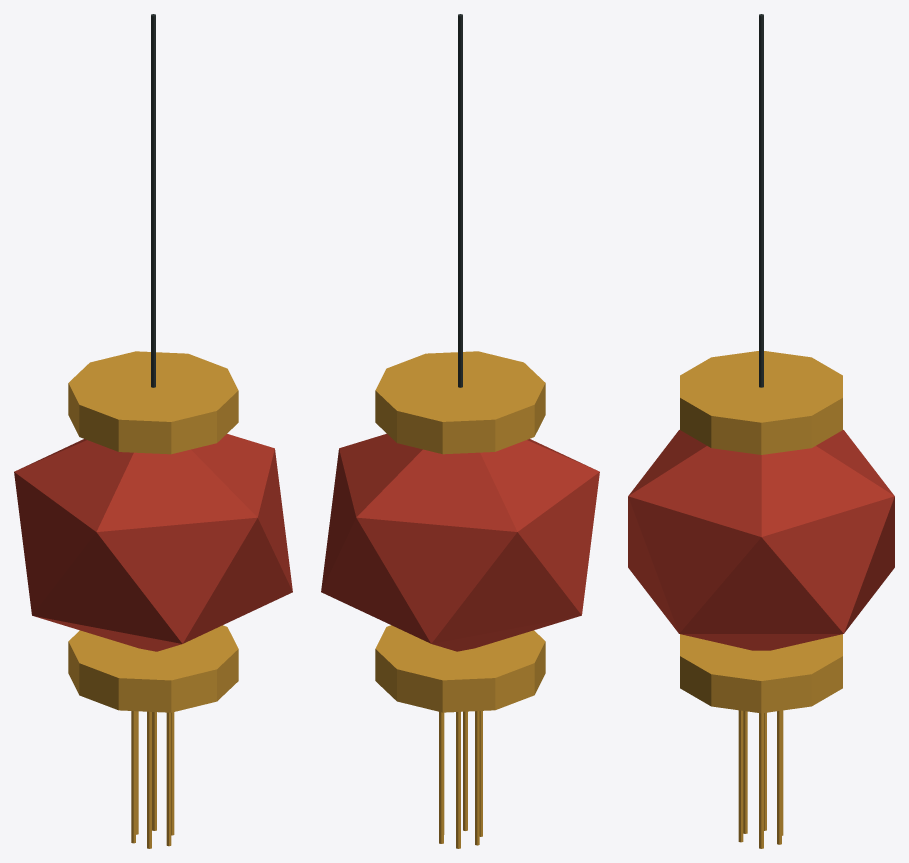
Rendered from den_long.glb.
3 views of the same model, side by side, from view 1: azimuth 30°, elevation 25°; view 2: azimuth 150°, elevation 25°; view 3: azimuth 270°, elevation 25° (orthographic).
Visible parts, largest first — view 1: den_long; view 2: den_long; view 3: den_long.
Boxes of the visible parts, bbox=[...] form: den_long: bbox=[14, 14, 292, 848]; den_long: bbox=[321, 14, 599, 848]; den_long: bbox=[628, 14, 894, 848].
Size of the model in its own units: 0.3935 by 1.28 by 0.3743.
